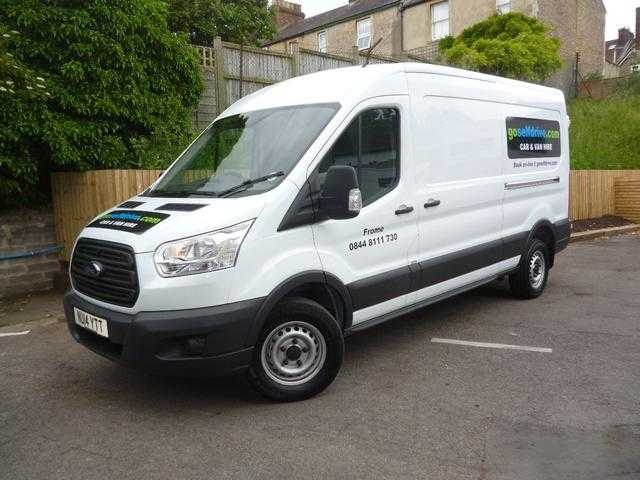van: (63, 62, 570, 403)
